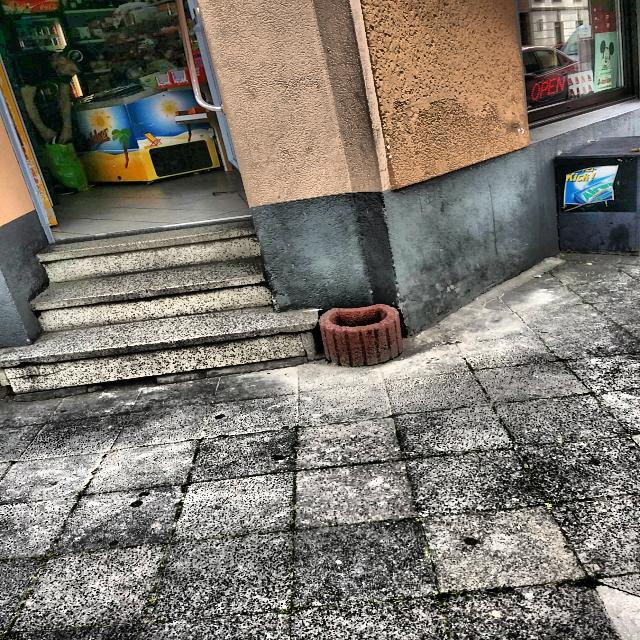escada: (0, 221, 320, 394)
